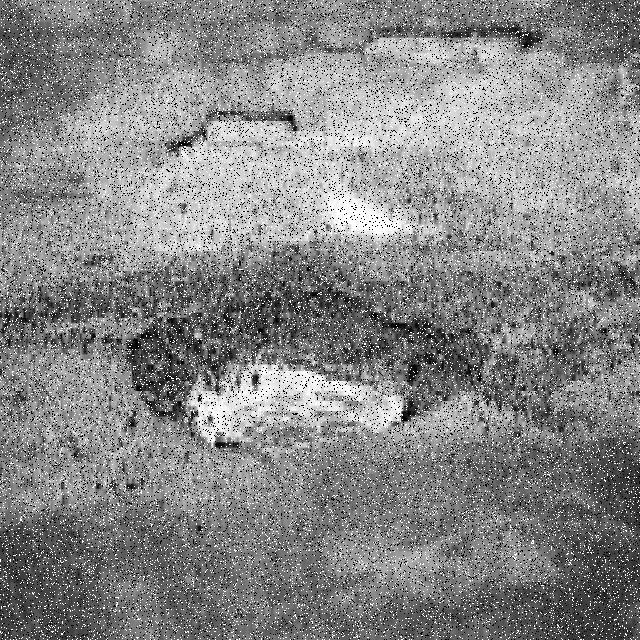pothole: (128, 292, 489, 453), (173, 110, 295, 157)
